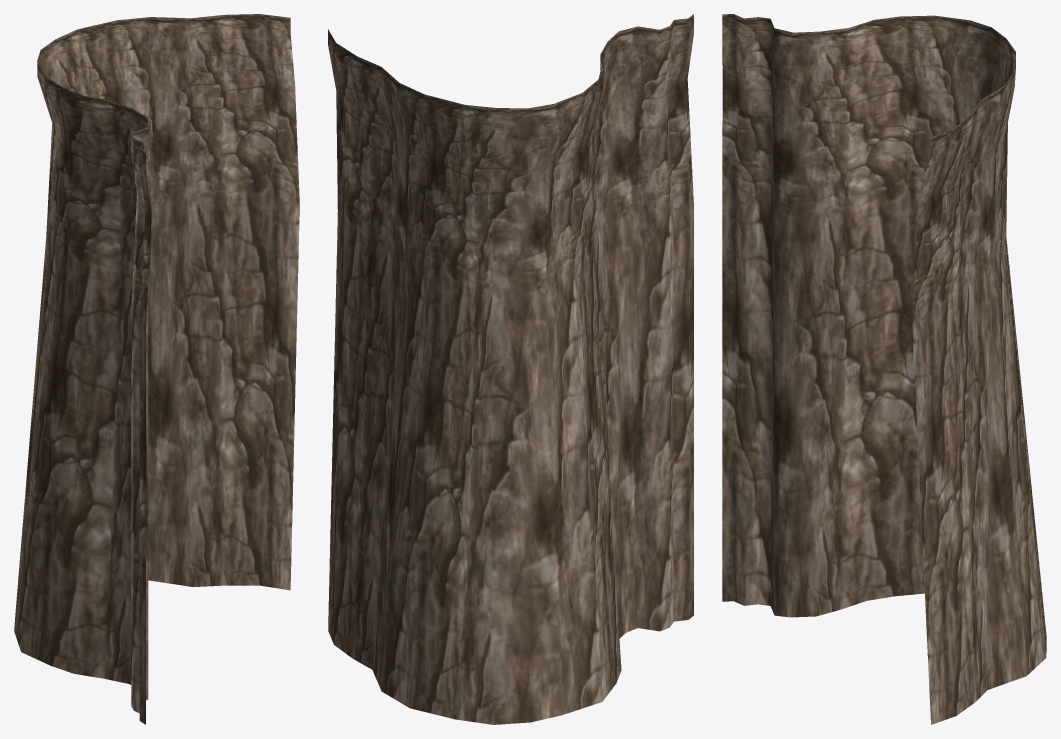
Rendered from OVERHILL_A_01_OBJECT24.fbx.
The picture shows the model from 3 angles, left to right: view 1: azimuth 30°, elevation 25°; view 2: azimuth 150°, elevation 25°; view 3: azimuth 270°, elevation 25°; orthographic projection. The views are drawn at different scales.
Parts seen in each view (by area): view 1: OVERHILL_A_01_OBJECT24; view 2: OVERHILL_A_01_OBJECT24; view 3: OVERHILL_A_01_OBJECT24.
Boxes of the visible parts, x1,y1,x2,y2 form: OVERHILL_A_01_OBJECT24: (14,14,299,724); OVERHILL_A_01_OBJECT24: (328,14,693,724); OVERHILL_A_01_OBJECT24: (722,14,1046,724).
Size of the model in its own units: 124848 by 257530 by 128805.
Materials: 2 (2 with a texture image).
